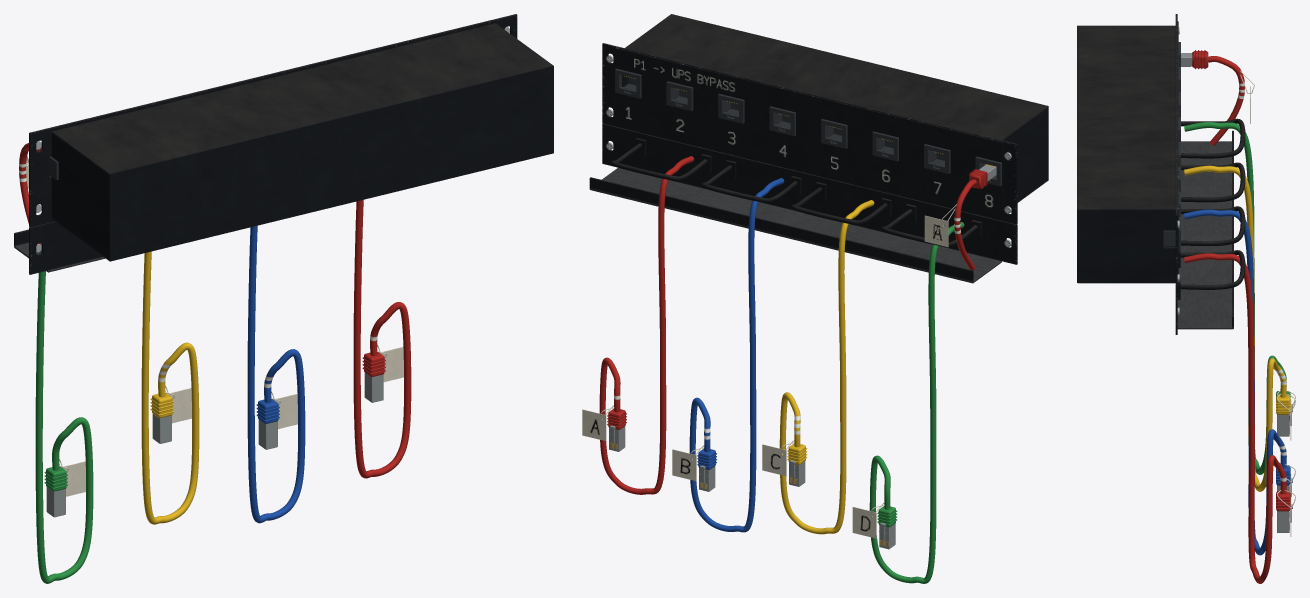
The model's file is patch_panel_8.glb.
3 views of the same model, side by side, from view 1: azimuth 30°, elevation 25°; view 2: azimuth 150°, elevation 25°; view 3: azimuth 270°, elevation 25° (orthographic). The views are drawn at different scales.
Visible parts, largest first — view 1: panel, cable_d, cable_b, cable_c, cable_a; view 2: panel, cable_b, cable_c, cable_d, cable_a, plug_a; view 3: panel, cable_a, cable_c, cable_b, cable_d, plug_a.
Boxes of the visible parts, x1,y1,x2,y2 form: panel: [14, 14, 553, 274]; cable_d: [35, 271, 93, 583]; cable_b: [247, 225, 305, 523]; cable_c: [141, 251, 199, 524]; cable_a: [353, 200, 411, 478]; panel: [589, 14, 1048, 283]; cable_b: [672, 178, 784, 532]; cable_c: [762, 200, 874, 534]; cable_d: [852, 222, 964, 583]; cable_a: [582, 156, 694, 494]; plug_a: [924, 164, 996, 270]; panel: [1077, 14, 1245, 334]; cable_a: [1184, 253, 1295, 583]; cable_c: [1184, 165, 1295, 491]; cable_b: [1184, 209, 1295, 555]; cable_d: [1184, 122, 1295, 474]; plug_a: [1181, 50, 1254, 145].
Size of the model in its own units: 0.483 by 0.4739 by 0.2219.
5 materials, 5 textured.
